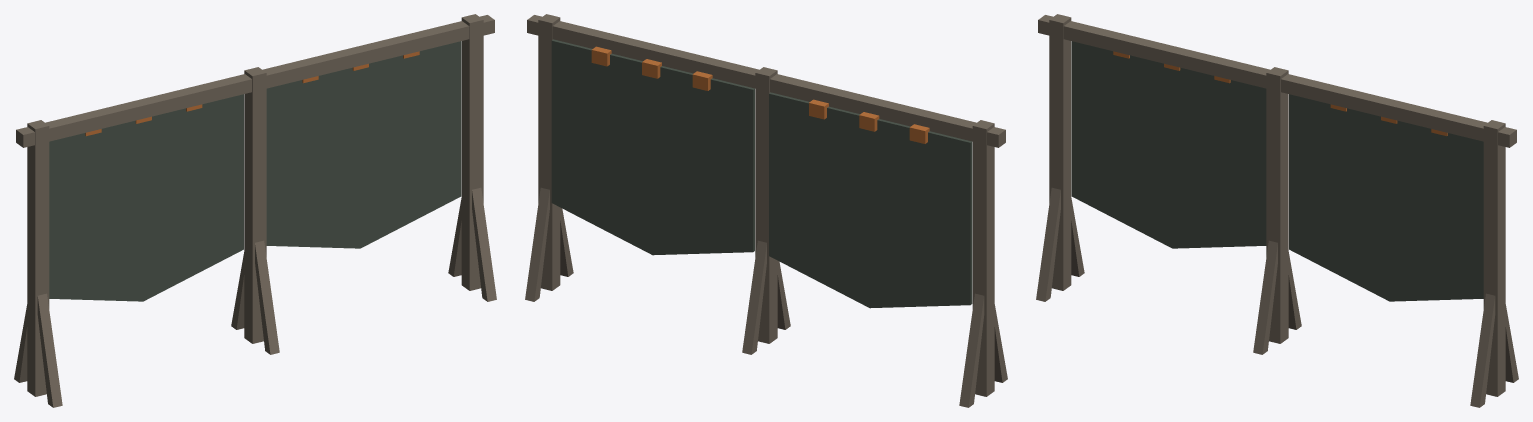
The model's file is net_rack.glb.
3 views of the same model, side by side, from view 1: azimuth 30°, elevation 25°; view 2: azimuth 150°, elevation 25°; view 3: azimuth 330°, elevation 25° (orthographic).
Visible parts, largest first — view 1: net_rack; view 2: net_rack; view 3: net_rack.
Part boxes in pixels (box(x1,y1,x2,y2)): net_rack: box(14, 14, 496, 407); net_rack: box(525, 14, 1007, 407); net_rack: box(1036, 14, 1518, 407).
Size of the model in its own units: 3.04 by 1.65 by 0.44.
